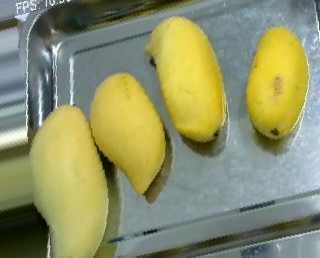Mango: (31, 106, 109, 258), (145, 16, 226, 142), (90, 72, 166, 195), (246, 28, 309, 139)
